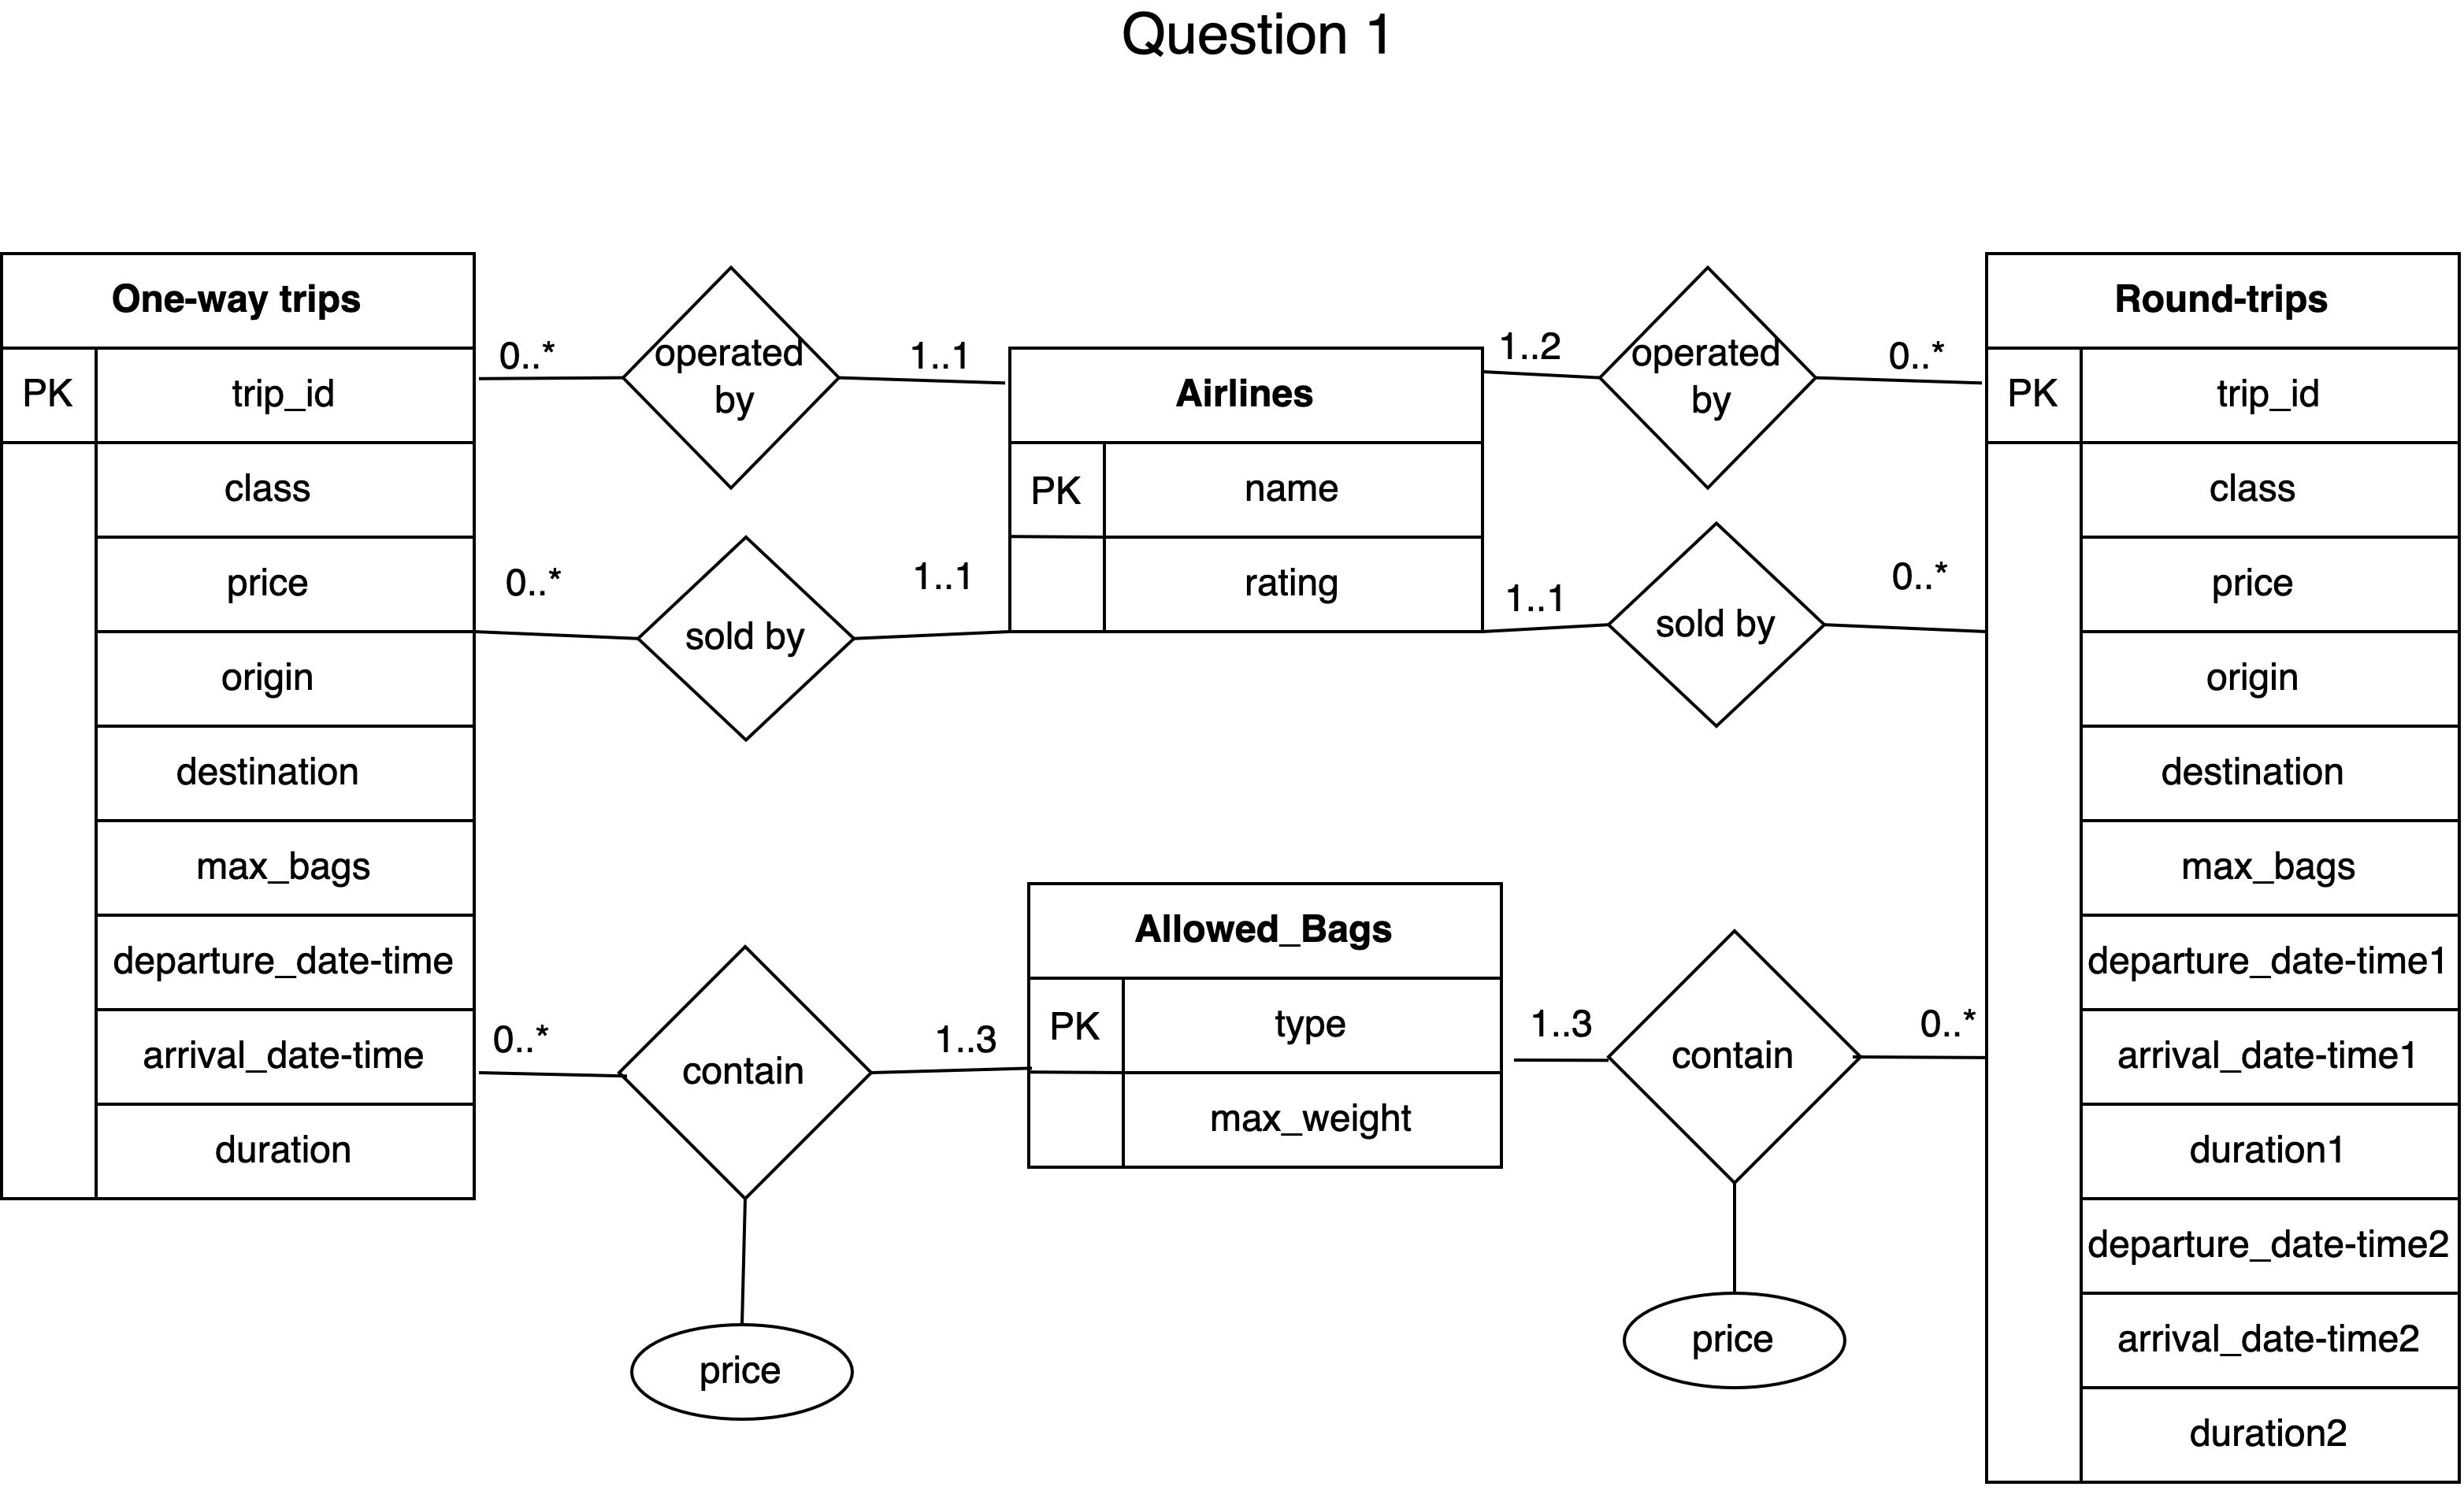attribute: (1621, 1296, 1848, 1393), (628, 1324, 852, 1419)
entity: (1982, 248, 2464, 1479), (0, 257, 482, 1208), (1023, 876, 1510, 1171), (1007, 339, 1487, 635)
relationship: (1610, 923, 1860, 1182), (623, 944, 866, 1198), (1596, 260, 1811, 492), (618, 266, 841, 487), (1612, 519, 1827, 730), (642, 536, 852, 740)
